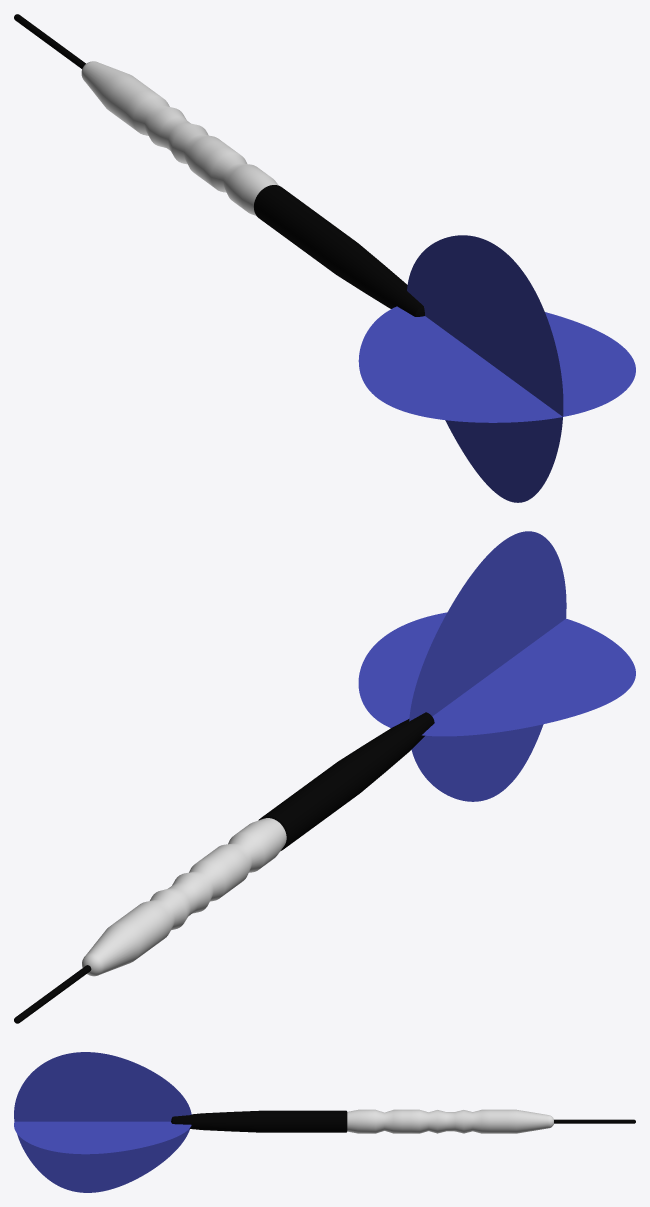
File: dart.fbx
3 views of the same model, one above another, from view 1: azimuth 30°, elevation 25°; view 2: azimuth 150°, elevation 25°; view 3: azimuth 270°, elevation 25° (orthographic). The views are drawn at different scales.
Visible parts, largest first — view 1: Extrusion.1; view 2: Extrusion.1; view 3: Extrusion.1.
Part boxes in pixels (x1,y1,x2,y2): Extrusion.1: (14,14,635,502); Extrusion.1: (14,531,635,1023); Extrusion.1: (14,1052,635,1192).
Size of the model in its own units: 50 by 50 by 200.
